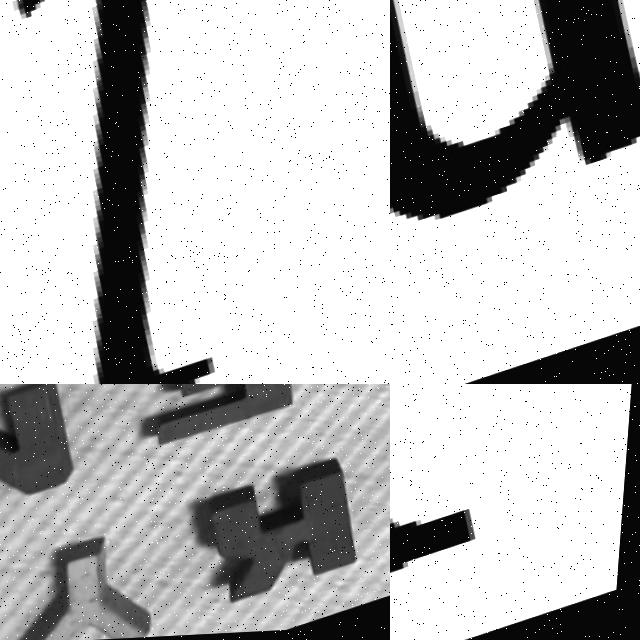1: (390, 384, 535, 640)
E: (128, 384, 317, 454)
K: (199, 464, 372, 614)
L: (0, 0, 305, 384)
M: (390, 0, 640, 330)
N: (0, 384, 92, 516)
Y: (6, 531, 166, 640)
